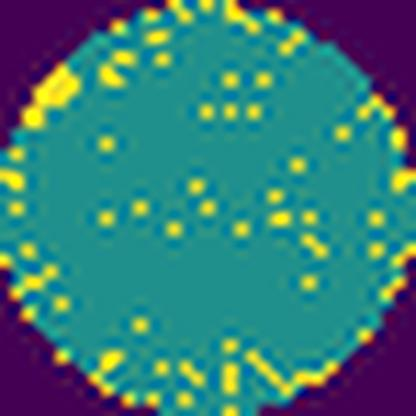Edge-Loc: (22, 56, 84, 135)
